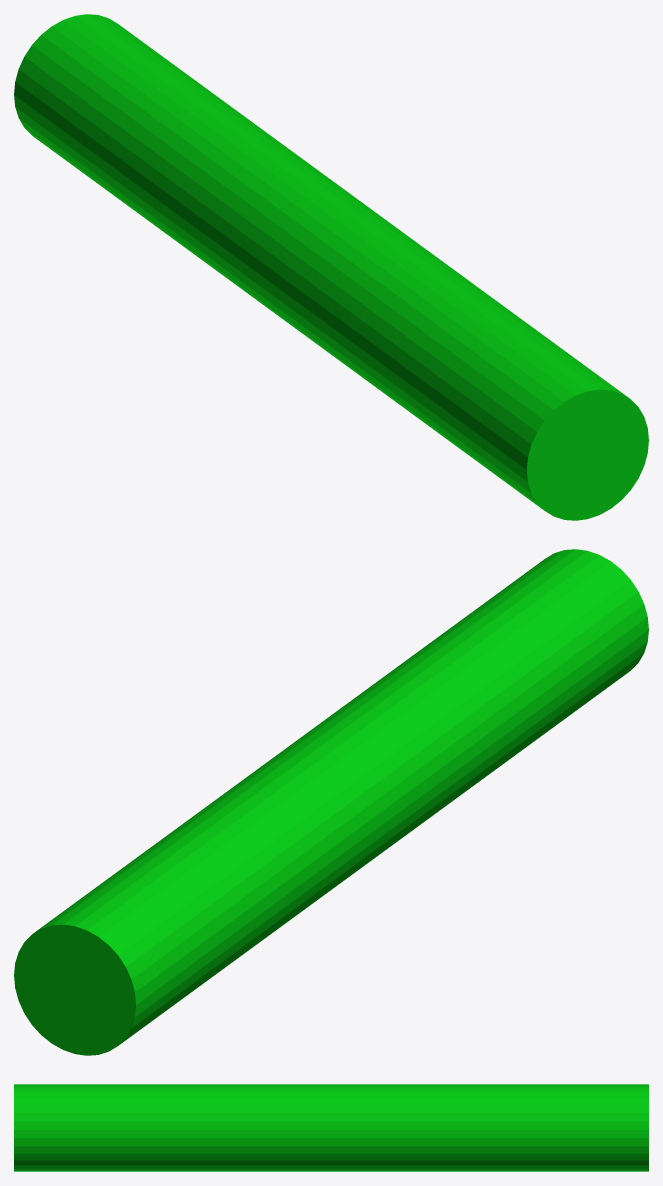
Rendered from elastic_joint_volante.obj.
3 views of the same model, one above another, from view 1: azimuth 30°, elevation 25°; view 2: azimuth 150°, elevation 25°; view 3: azimuth 270°, elevation 25° (orthographic). The views are drawn at different scales.
Parts seen in each view (by area): view 1: Giunto_1; view 2: Giunto_1; view 3: Giunto_1.
Part boxes in pixels (x1=…): Giunto_1: x1=14, y1=14, x2=648, y2=520; Giunto_1: x1=14, y1=549, x2=648, y2=1055; Giunto_1: x1=14, y1=1084, x2=648, y2=1171.
Bounding box in the file's own units: 0.011 × 0.011 × 0.08.
